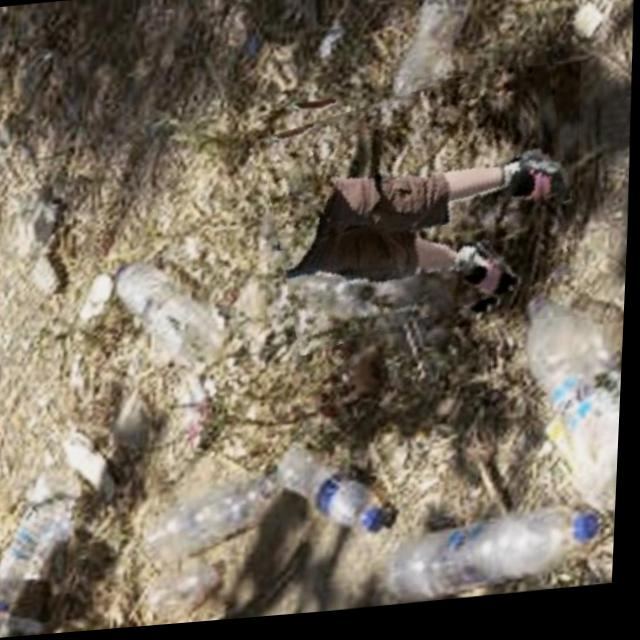Person in Rubble: (263, 70, 586, 350)
